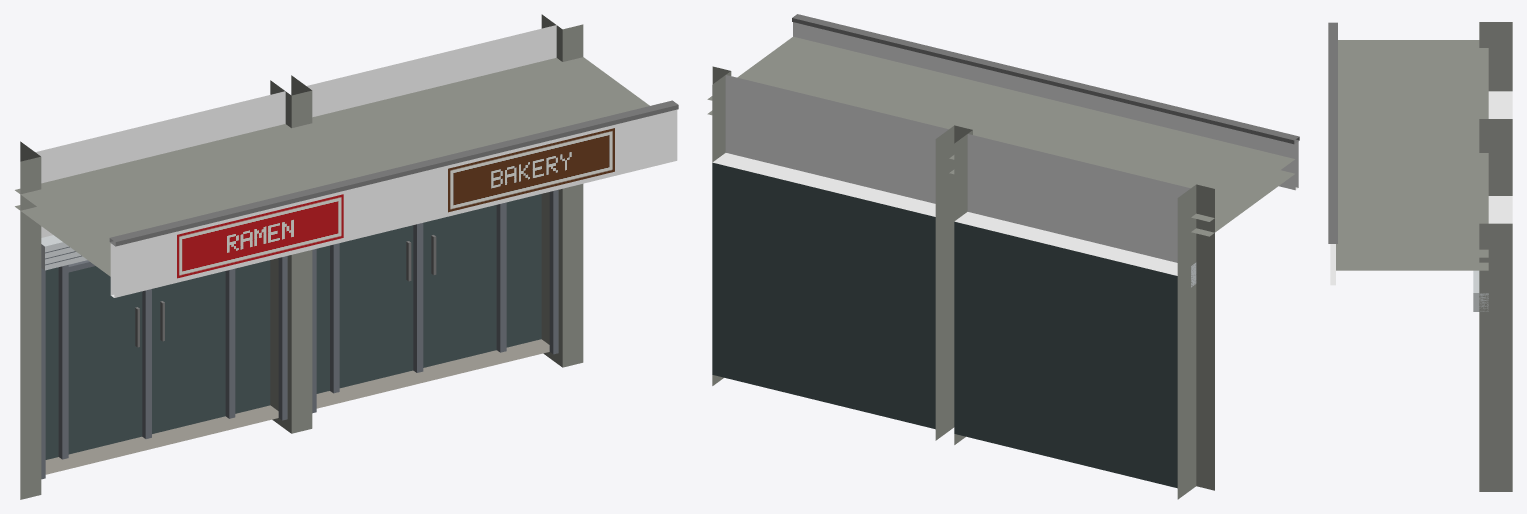
Rendered from base-w1_close.fbx.
3 views of the same model, side by side, from view 1: azimuth 30°, elevation 25°; view 2: azimuth 150°, elevation 25°; view 3: azimuth 270°, elevation 25° (orthographic). The views are drawn at different scales.
Visible parts, largest first — view 1: a2006/250/base-w1_close; view 2: a2006/250/base-w1_close; view 3: a2006/250/base-w1_close.
Part boxes in pixels (x1,y1,x2,y2): a2006/250/base-w1_close: (15,14,678,499); a2006/250/base-w1_close: (707,14,1299,499); a2006/250/base-w1_close: (1328,22,1512,491).
Size of the model in its own units: 5.4 by 3.1 by 1.93.
